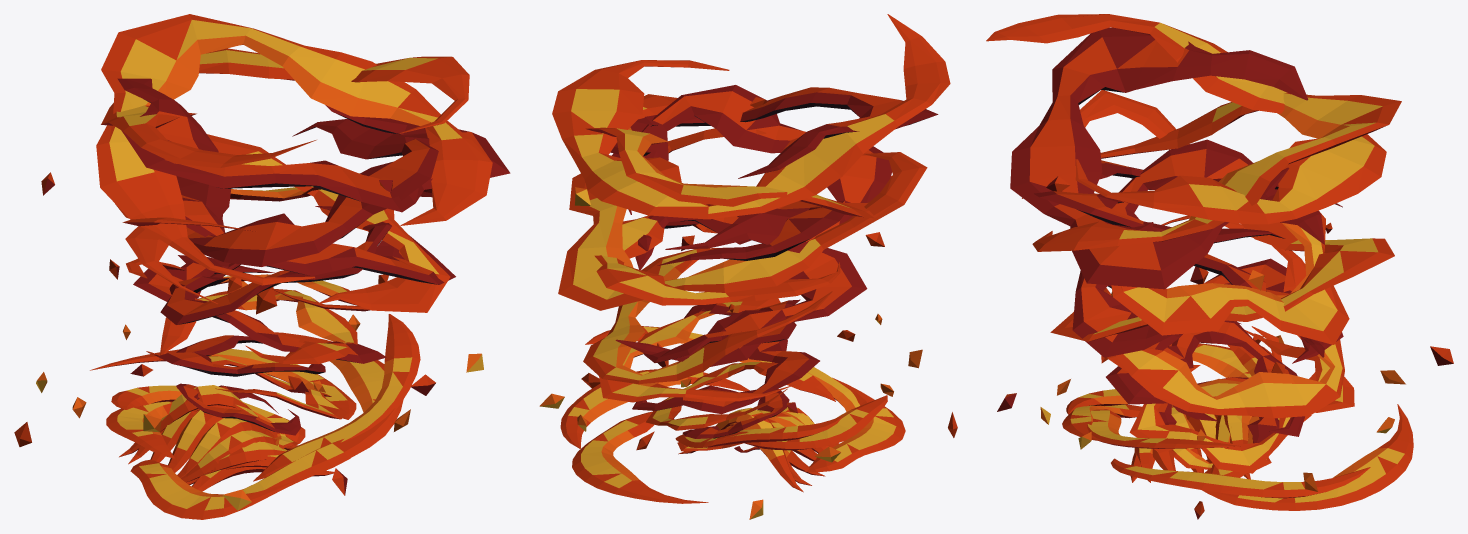
File: Inferno_Spiral.glb
The picture shows the model from 3 angles, left to right: view 1: azimuth 30°, elevation 25°; view 2: azimuth 150°, elevation 25°; view 3: azimuth 270°, elevation 25°; orthographic projection. The views are drawn at different scales.
Visible parts, largest first — view 1: Travel_Ribbon_14, FIRE_IMPACT, Travel_Ribbon_13, Travel_Ribbon_15, Travel_Ribbon_16, Travel_Ribbon_10, Travel_Ribbon_11, Travel_Ribbon_06, Travel_Ribbon_09, Travel_Ribbon_07, Travel_Ribbon_05, Travel_Ribbon_04 (+10 smaller); view 2: Travel_Ribbon_16, FIRE_IMPACT, Travel_Ribbon_12, Travel_Ribbon_13, Travel_Ribbon_08, Travel_Ribbon_09, Travel_Ribbon_10, Travel_Ribbon_14, Travel_Ribbon_15, Travel_Ribbon_06, Travel_Ribbon_11, Travel_Ribbon_05 (+4 smaller); view 3: Travel_Ribbon_15, Travel_Ribbon_16, FIRE_IMPACT, Travel_Ribbon_14, Travel_Ribbon_12, Travel_Ribbon_08, Travel_Ribbon_11, Travel_Ribbon_10, Travel_Ribbon_04, Travel_Ribbon_13, Travel_Ribbon_05, Travel_Ribbon_07 (+5 smaller).
Boxes of the visible parts, x1,y1,x2,y2 form: Travel_Ribbon_14: (96, 14, 492, 285); FIRE_IMPACT: (14, 259, 483, 519); Travel_Ribbon_13: (176, 119, 438, 266); Travel_Ribbon_15: (117, 78, 510, 212); Travel_Ribbon_16: (101, 48, 469, 167); Travel_Ribbon_10: (125, 134, 450, 312); Travel_Ribbon_11: (181, 195, 455, 284); Travel_Ribbon_06: (159, 289, 357, 363); Travel_Ribbon_09: (160, 222, 391, 324); Travel_Ribbon_07: (133, 255, 386, 363); Travel_Ribbon_05: (157, 335, 325, 376); Travel_Ribbon_04: (146, 351, 347, 419); Travel_Ribbon_16: (552, 14, 950, 219); FIRE_IMPACT: (539, 326, 957, 519); Travel_Ribbon_12: (558, 128, 927, 310); Travel_Ribbon_13: (612, 85, 891, 252); Travel_Ribbon_08: (583, 247, 832, 384); Travel_Ribbon_09: (615, 215, 867, 366); Travel_Ribbon_10: (594, 215, 840, 305); Travel_Ribbon_14: (585, 94, 891, 218); Travel_Ribbon_15: (610, 87, 938, 178); Travel_Ribbon_06: (599, 298, 796, 402); Travel_Ribbon_11: (638, 201, 844, 265); Travel_Ribbon_05: (632, 339, 819, 414); Travel_Ribbon_15: (1010, 27, 1308, 289); Travel_Ribbon_16: (986, 14, 1386, 224); FIRE_IMPACT: (997, 266, 1453, 519); Travel_Ribbon_14: (1022, 93, 1401, 251); Travel_Ribbon_12: (1080, 90, 1349, 344); Travel_Ribbon_08: (1116, 222, 1344, 418); Travel_Ribbon_11: (1072, 139, 1324, 357); Travel_Ribbon_10: (1050, 215, 1394, 341); Travel_Ribbon_04: (1129, 326, 1311, 473); Travel_Ribbon_13: (1034, 160, 1342, 243); Travel_Ribbon_05: (1163, 321, 1304, 436); Travel_Ribbon_07: (1106, 258, 1343, 404).
Bounding box in the file's own units: 7.28 × 6.39 × 6.82.
